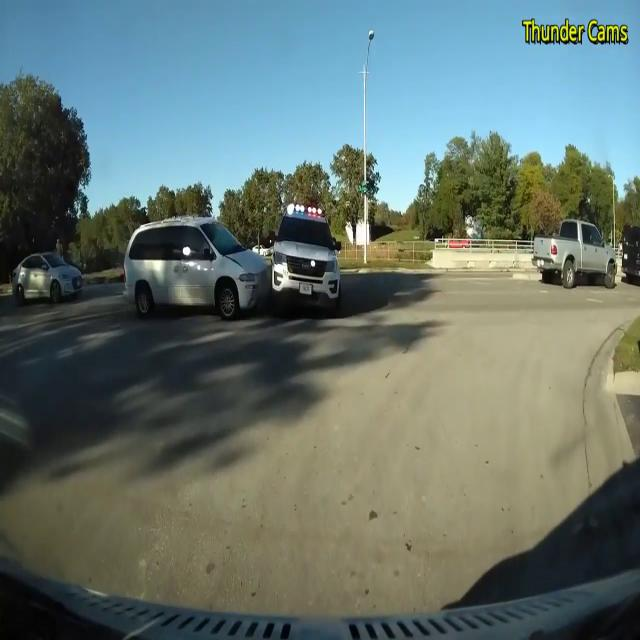accident: (148, 187, 358, 343)
